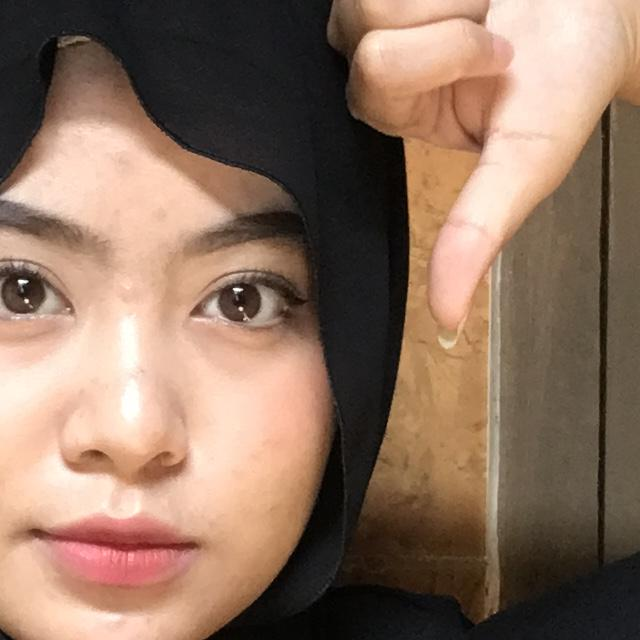sedih: (290, 0, 640, 396)
